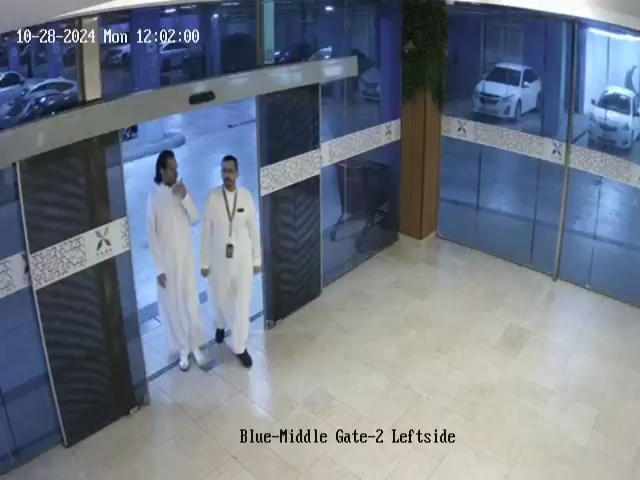male: (146, 149, 217, 373), (198, 155, 262, 369)
